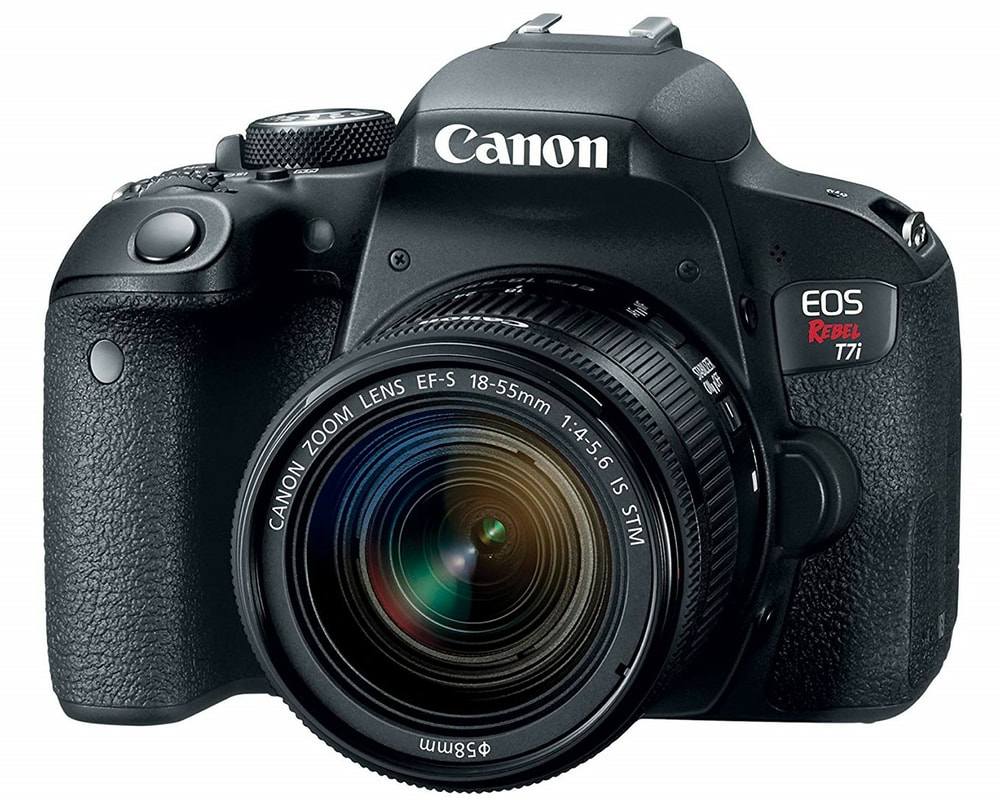camera: (53, 49, 947, 766)
